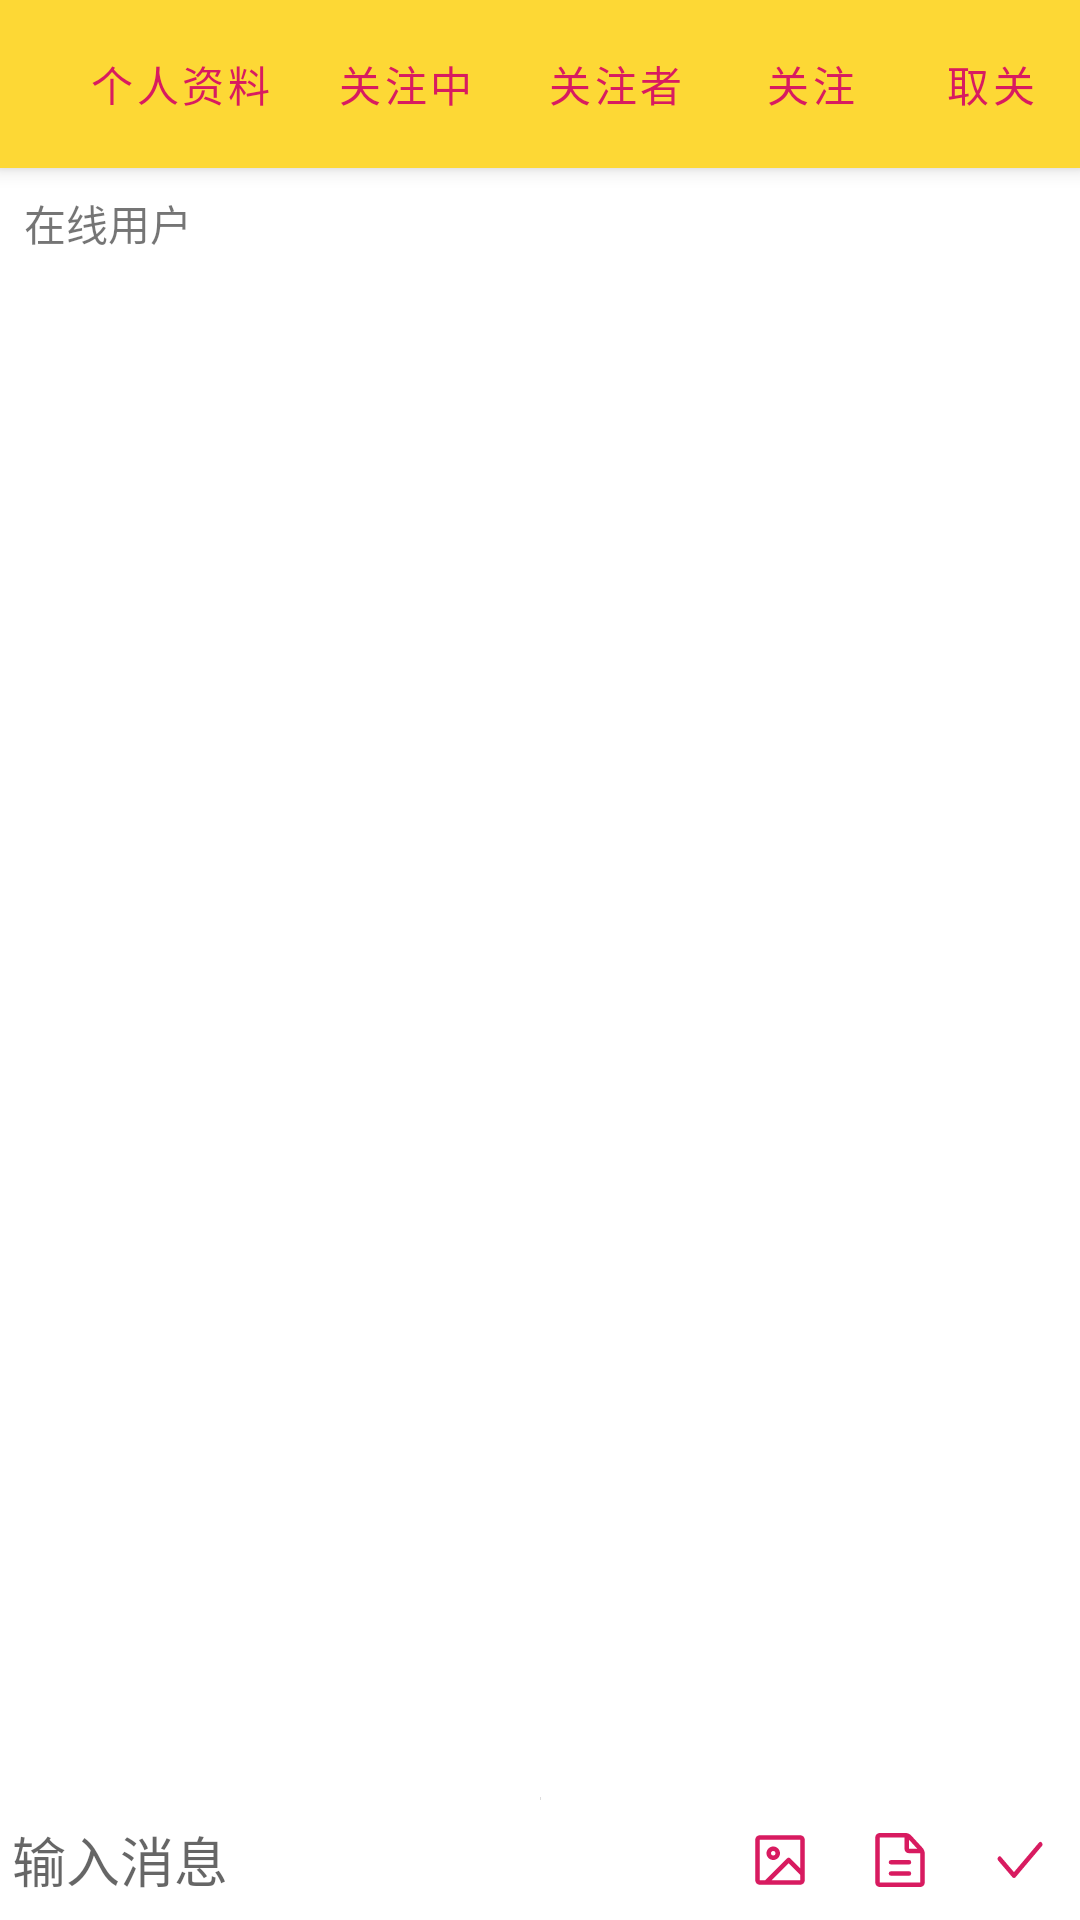

Locate icon controls on the screen. Image size 1080×1920, boxes as (x1, y1, x2, y2).
document: (875, 1833, 925, 1887)
